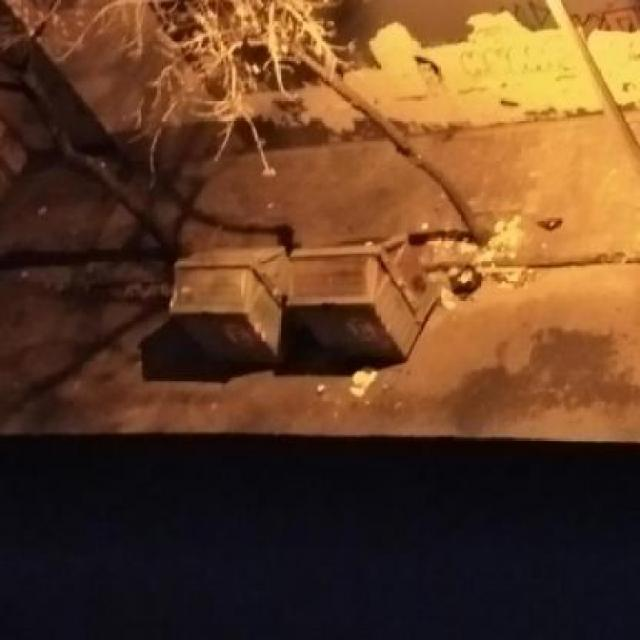garbage: (134, 236, 525, 396)
